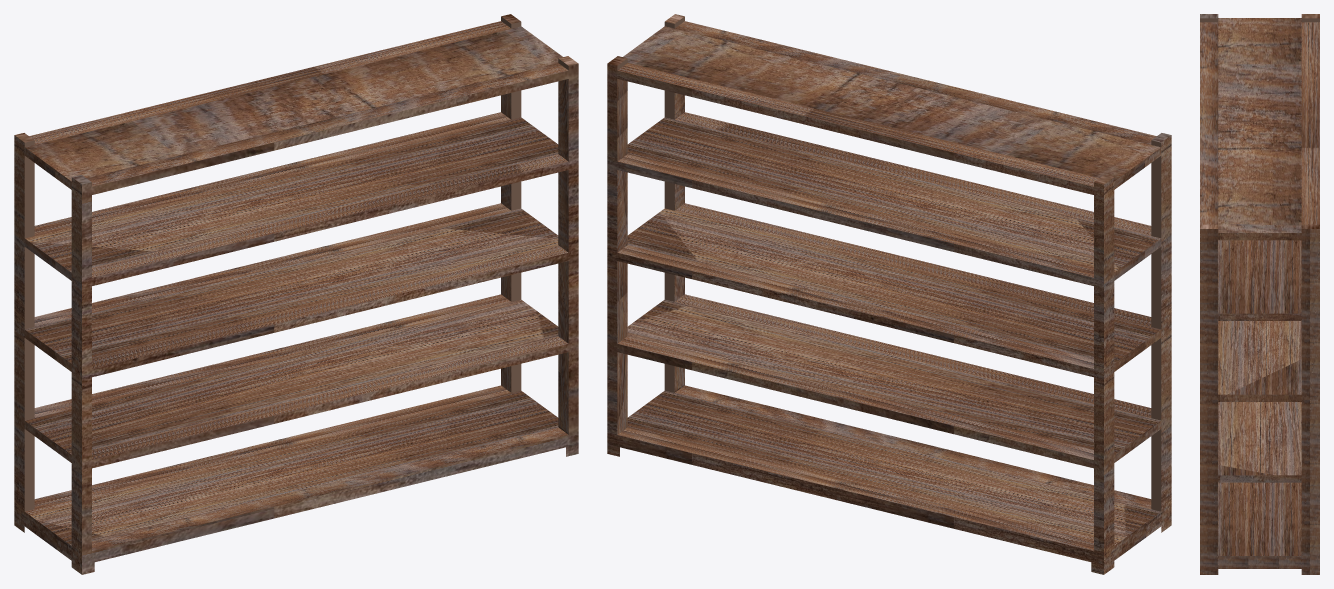
Rendered from Stoika.fbx.
3 renders of one model, left to right at view 1: azimuth 30°, elevation 25°; view 2: azimuth 150°, elevation 25°; view 3: azimuth 270°, elevation 25°, orthographic. The views are drawn at different scales.
Parts seen in each view (by area): view 1: BigStoika; view 2: BigStoika; view 3: BigStoika.
Part boxes in pixels (x1,y1,x2,y2): BigStoika: [14, 14, 578, 574]; BigStoika: [607, 14, 1171, 574]; BigStoika: [1200, 14, 1319, 574].
Size of the model in its own units: 1612 by 1211 by 381.
